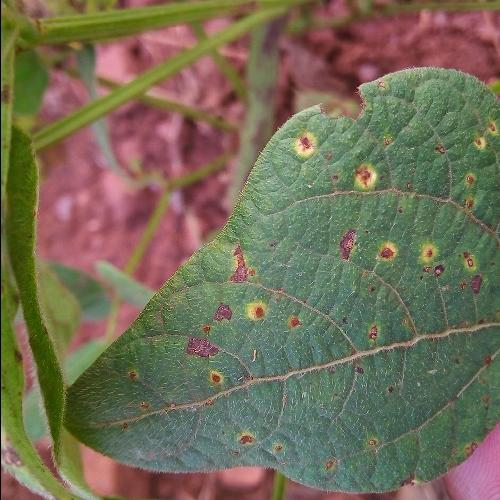hawar: (188, 123, 500, 474)
mozaik: (302, 71, 398, 124)
